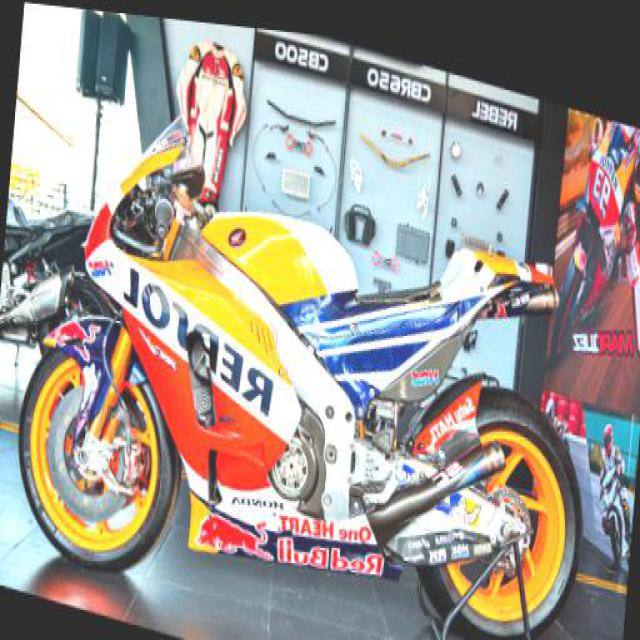HRC RCV 213: (6, 62, 609, 638)
